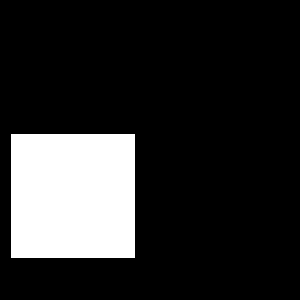circle: (11, 134, 135, 258)
triangle: (58, 164, 99, 205)
